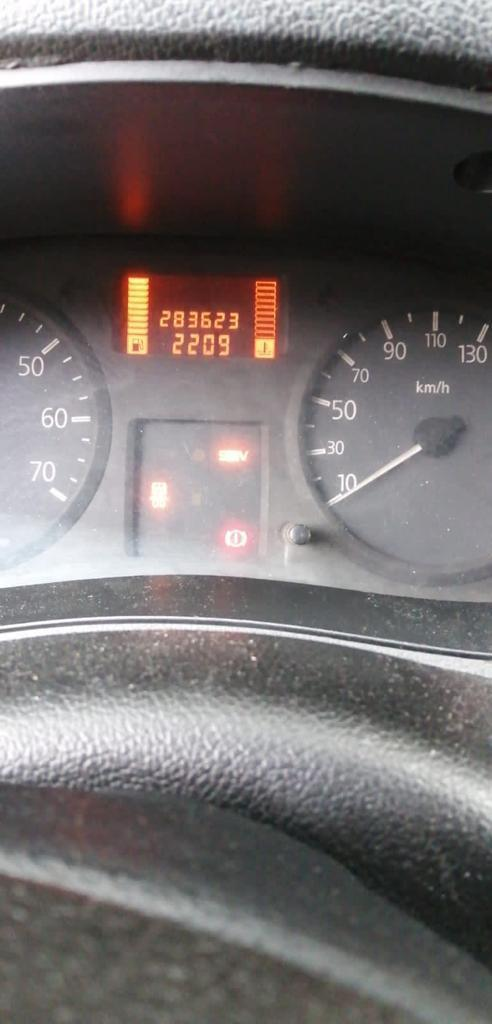0: (203, 332, 214, 356)
2: (172, 331, 183, 355), (187, 332, 199, 354), (159, 308, 171, 327), (213, 311, 225, 329)
3: (228, 311, 239, 329), (187, 310, 197, 327)
6: (200, 310, 211, 328)
8: (173, 308, 185, 328)
9: (217, 333, 231, 356)
odometer: (114, 267, 289, 362)
